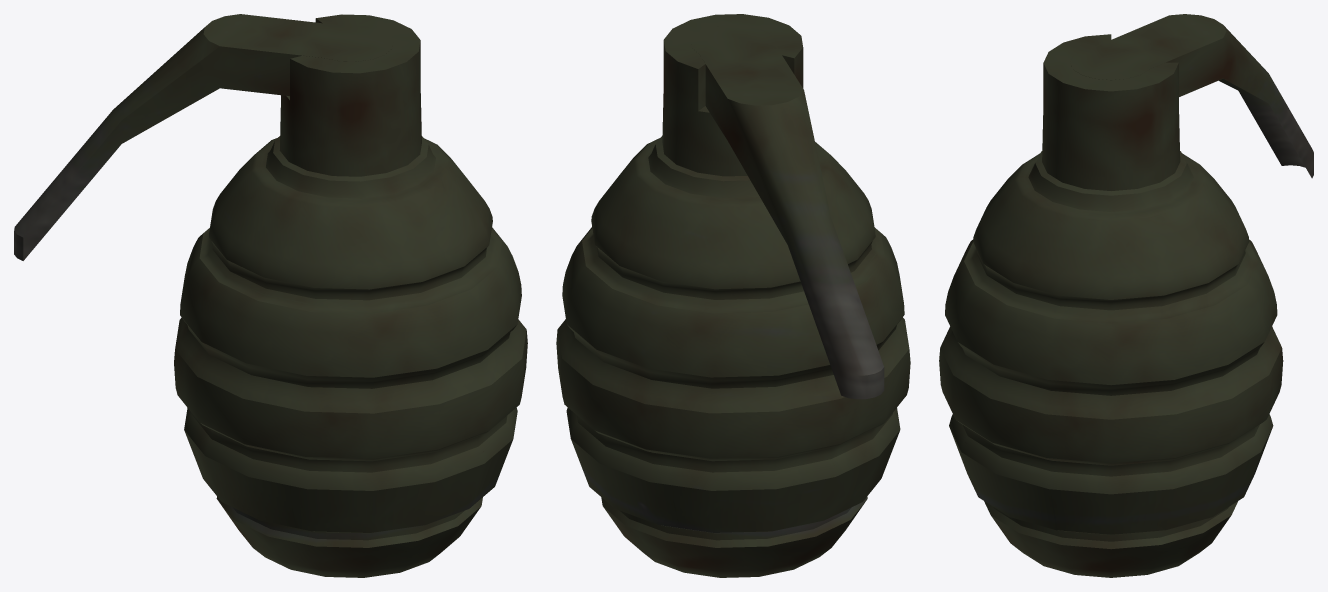
The picture shows the model from 3 angles, left to right: view 1: azimuth 30°, elevation 25°; view 2: azimuth 150°, elevation 25°; view 3: azimuth 270°, elevation 25°; orthographic projection. The views are drawn at different scales.
Visible parts, largest first — view 1: BézierCurve; view 2: BézierCurve; view 3: BézierCurve.
Boxes of the visible parts, left/top/right/bottom form: BézierCurve: left=14, top=14, right=527, bottom=577; BézierCurve: left=556, top=14, right=910, bottom=577; BézierCurve: left=939, top=14, right=1313, bottom=577.
Bounding box in the file's own units: 500 × 608 × 426.
Materials: 1 (1 with a texture image).
